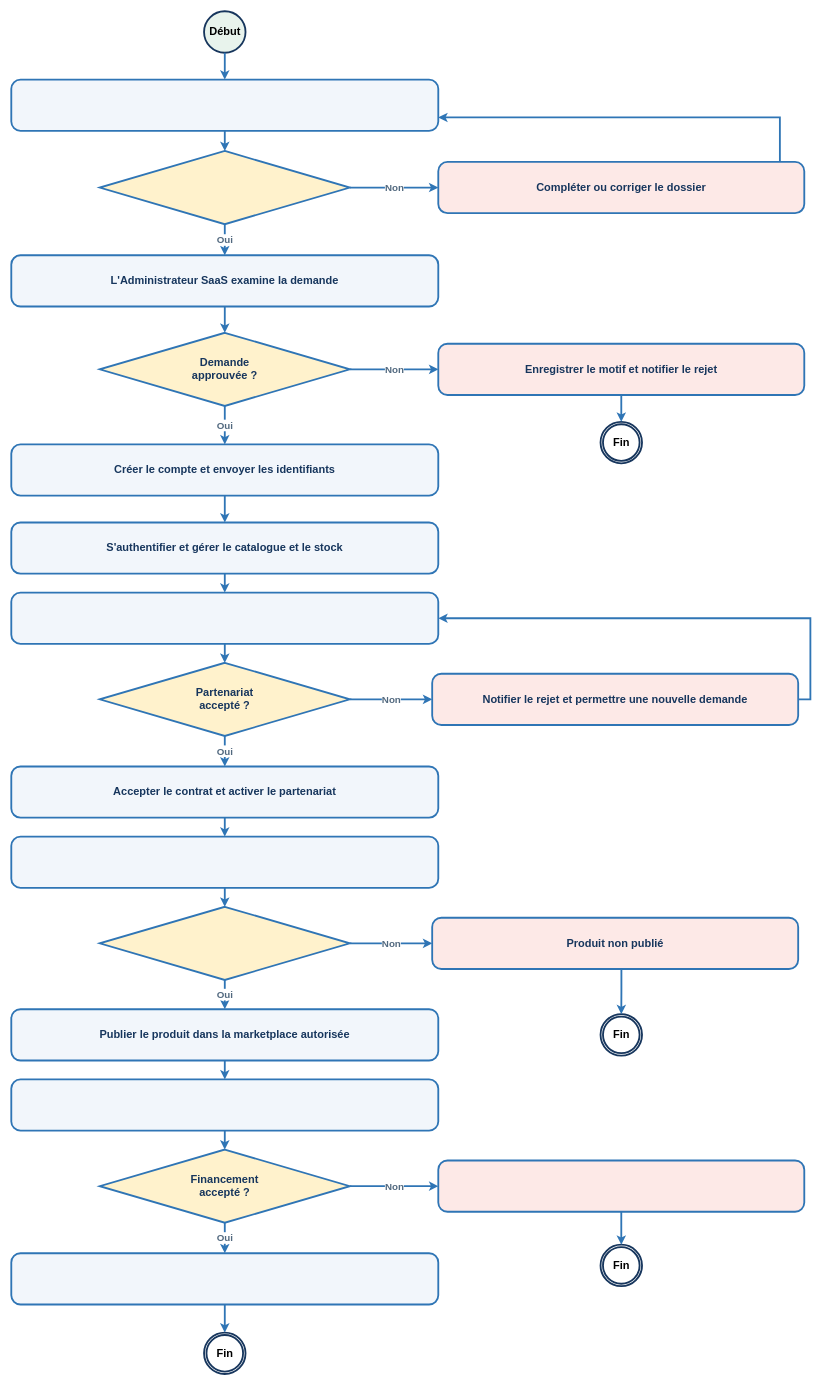
Image size: 827x1385. Some labels were removed from this diagram. The shapes that lost their labels are listed below. From the top down, each one's box as (x1, y1, x2, y2) in pixels, then its label:
(10, 78, 439, 131): Déposer la demande d'inscription Concessionnaire
(99, 150, 350, 225): Dossier complet ?
(10, 591, 439, 644): Soumettre une demande de partenariat à une banque
(10, 835, 439, 888): Soumettre un produit à la publication
(99, 906, 350, 981): Publication validée ?
(10, 1078, 439, 1131): Suivre les demandes de financement associées
(437, 1159, 805, 1212): Clôturer le suivi sans réservation de stock
(10, 1252, 439, 1305): Réserver le stock du produit concerné
